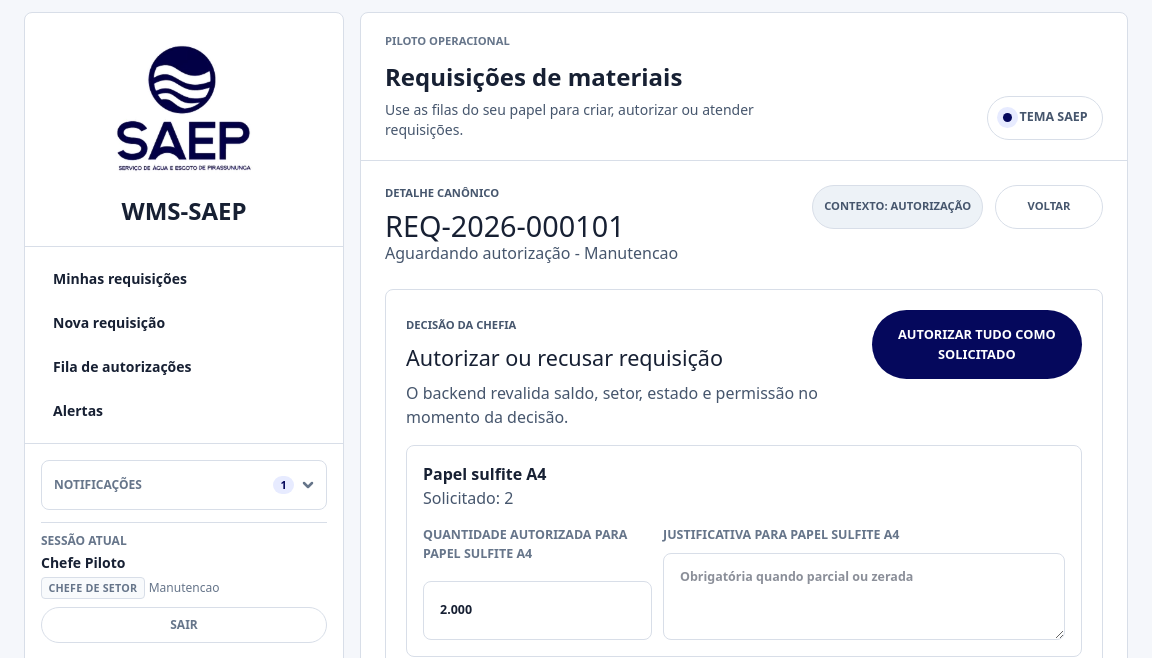
Test: frontend pilot router › handles clipboard rejection when copying support details
Expected: the heading "REQ-2026-000101" is shown, [385,206,625,245]
Click the button "Autorizar tudo como solicitado".
click(977, 345)  # box [872,310,1082,379]
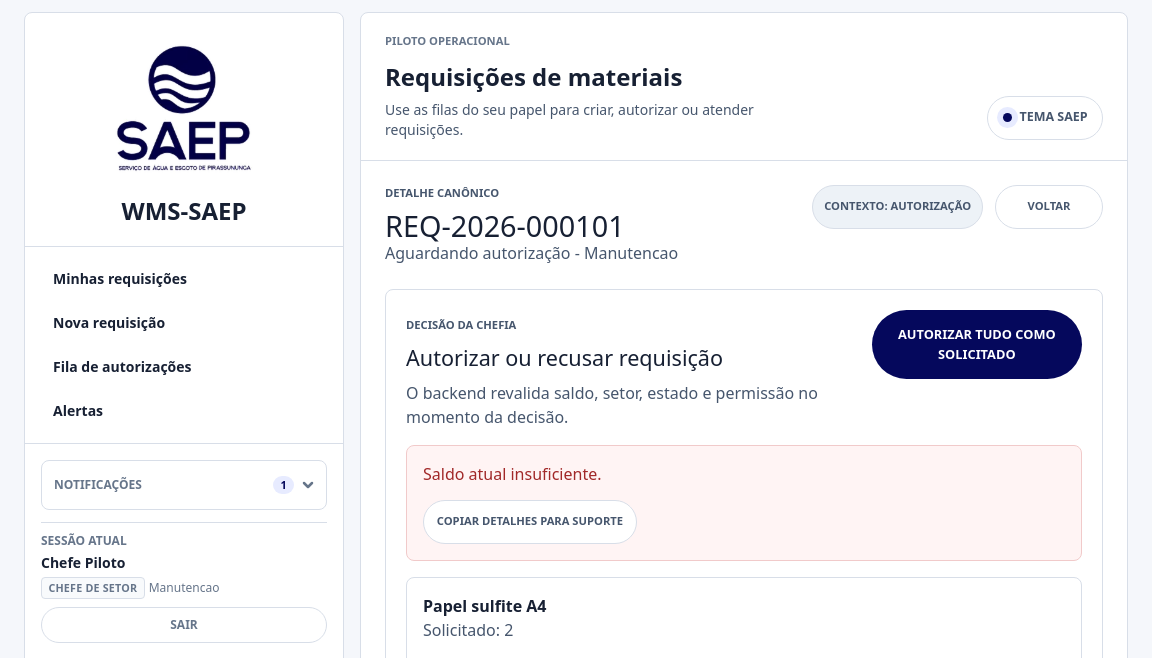
Result: the text "Saldo atual insuficiente." is shown at [423,463,602,485]
Click the button "Copiar detalhes para suporte".
click(530, 522)  # box [423,500,637,544]
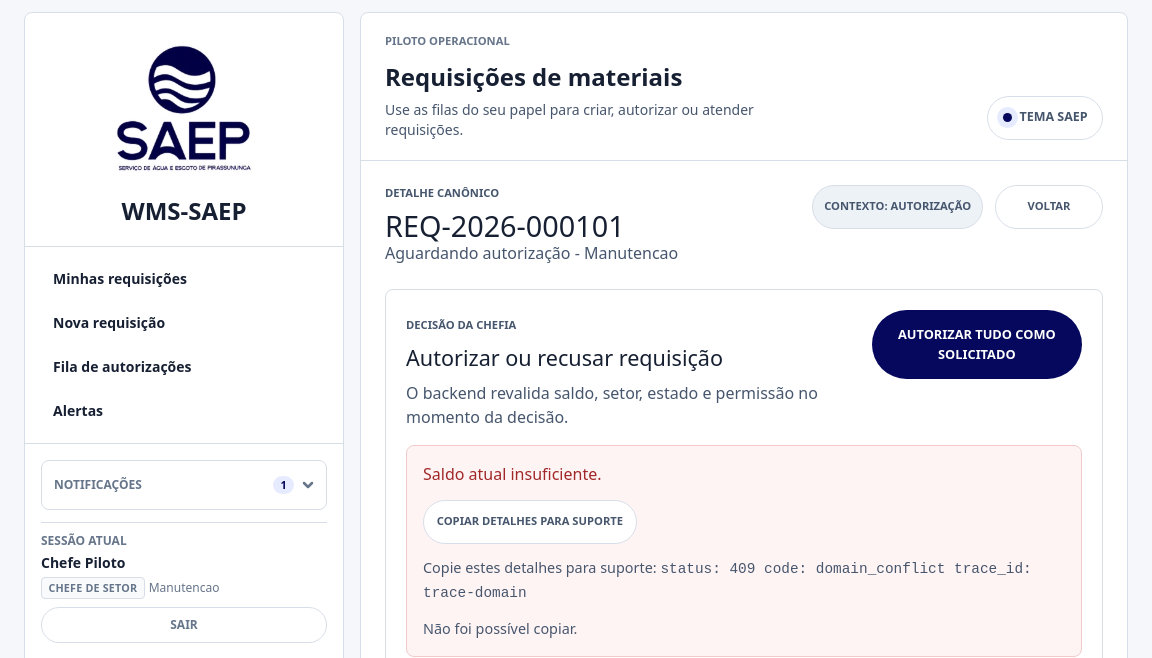
Result: the text "Não foi possível copiar." is shown at [423,619,577,638]
Result: the text "Copie estes detalhes para suporte:" is shown at [423,558,660,577]
Result: the text "status: 409 code: domain_conflict trace_id: trace-domain" is shown at [423,561,1032,601]
